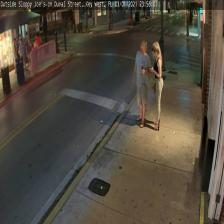person: (132, 39, 151, 127), (151, 41, 163, 129)
